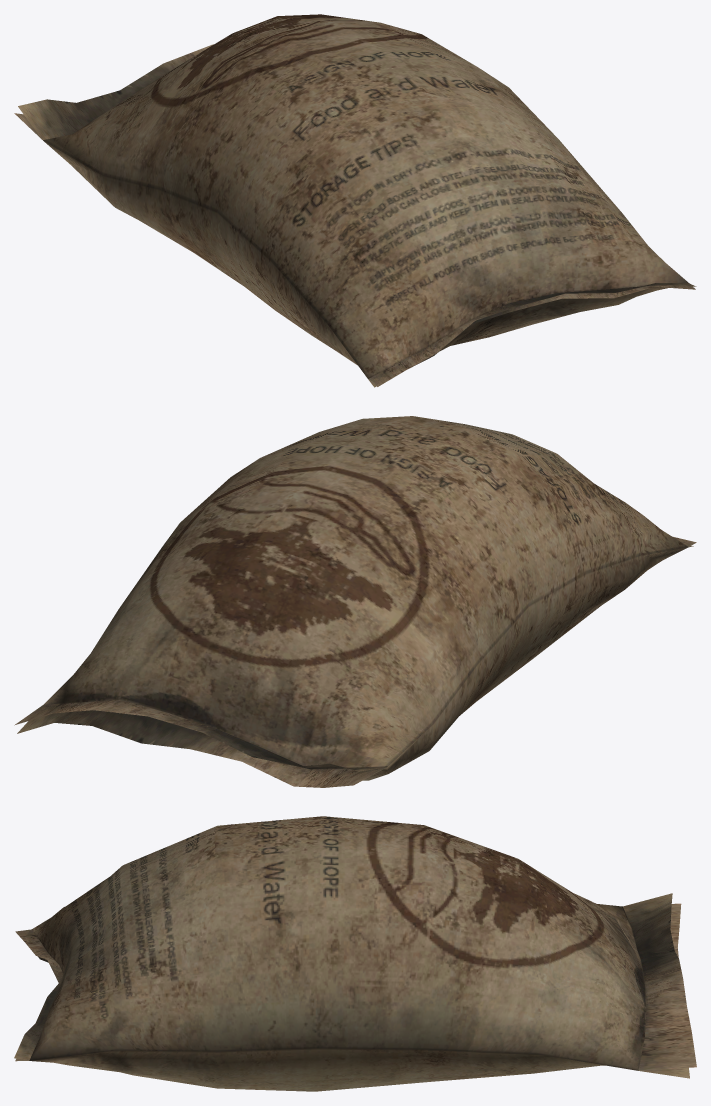
The model's file is p6_pak_food_sack_tan_lod0.glb.
The picture shows the model from 3 angles, top to bottom: view 1: azimuth 30°, elevation 25°; view 2: azimuth 150°, elevation 25°; view 3: azimuth 270°, elevation 25°; orthographic projection. The views are drawn at different scales.
Visible parts, largest first — view 1: surf0; view 2: surf0; view 3: surf0.
Boxes of the visible parts, <box> form: surf0: <box>14,14,696,387</box>; surf0: <box>14,416,696,787</box>; surf0: <box>14,816,696,1091</box>.
Bounding box in the file's own units: 30.39 × 22.02 × 56.
